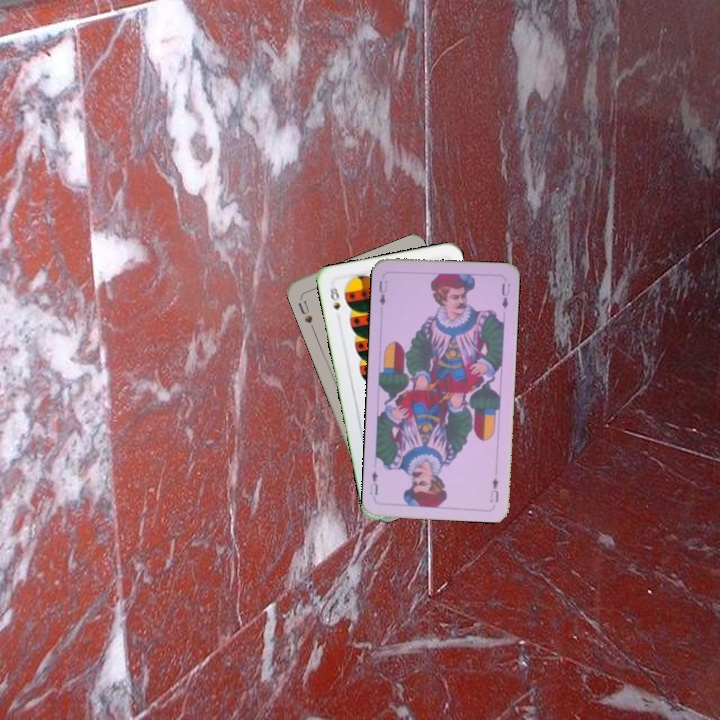EU: (486, 473, 501, 505), (375, 277, 390, 308)
S8: (326, 283, 343, 312)
SU: (294, 293, 317, 332)
